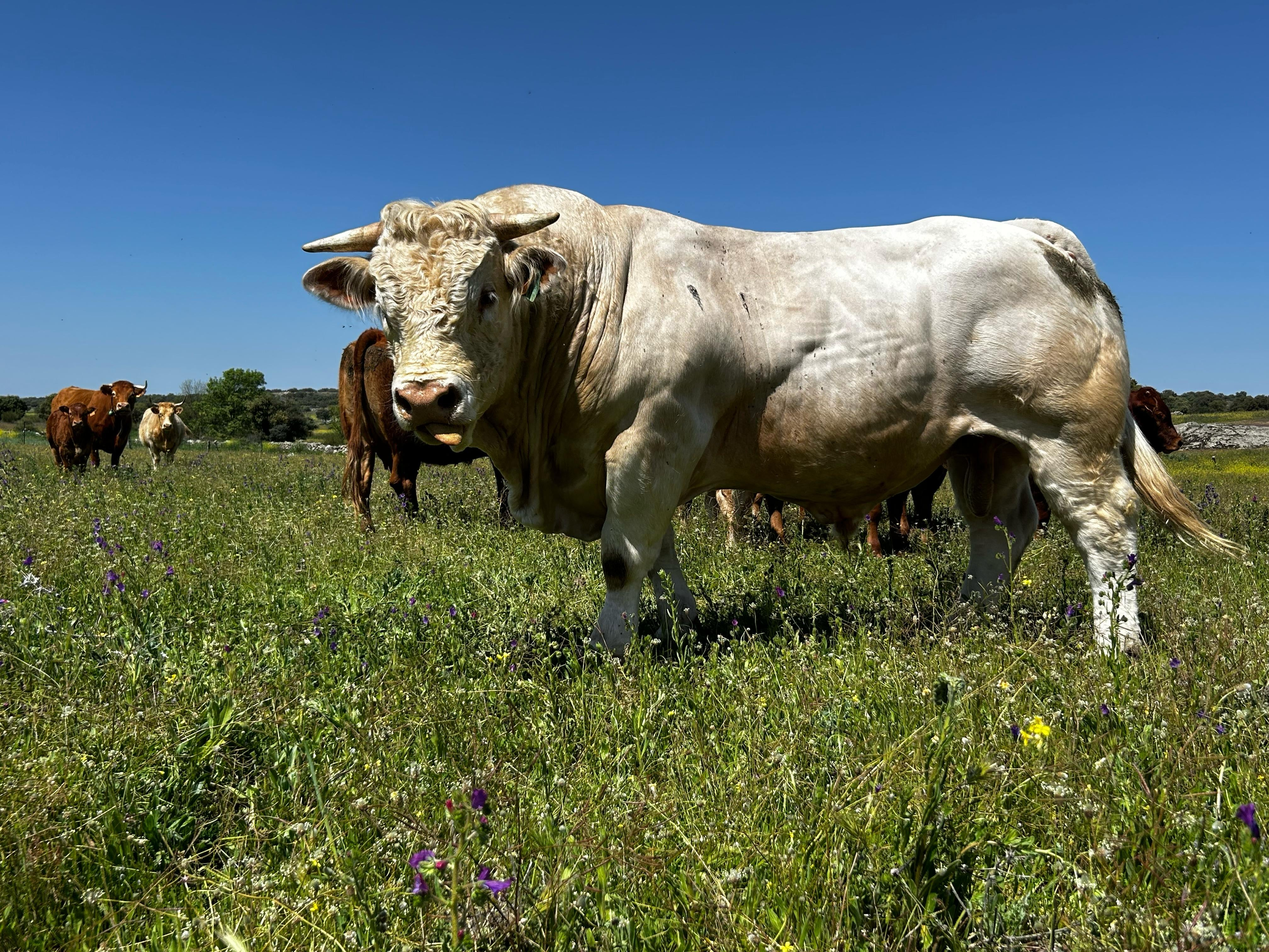bovino: (301, 183, 1150, 661)
